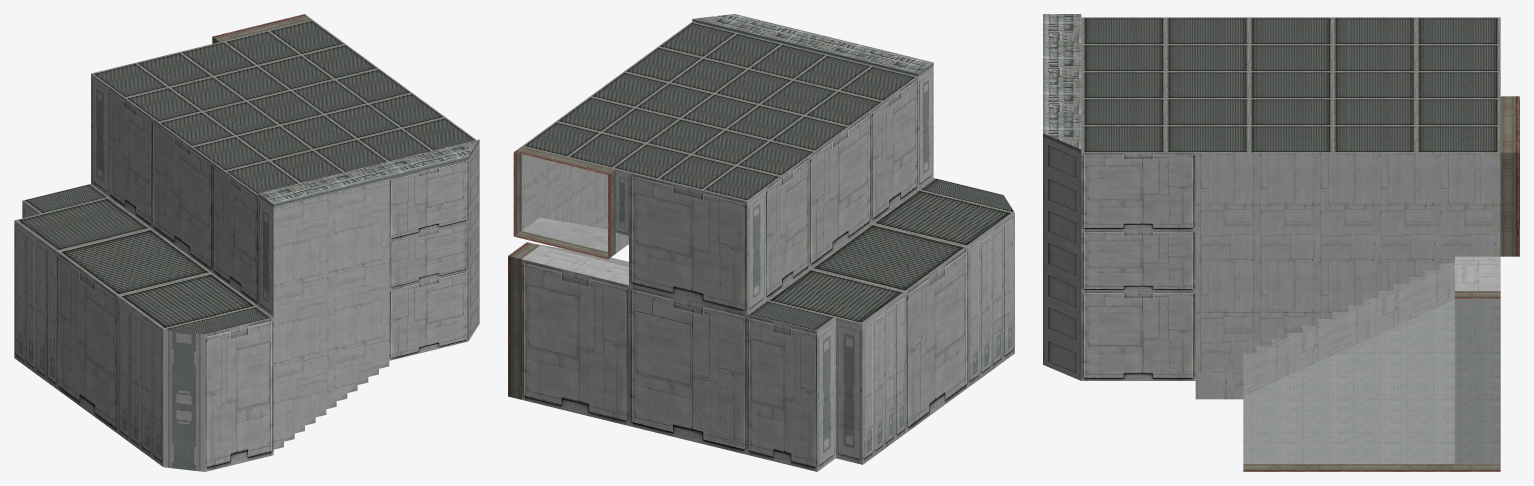
The model's file is mun_all_military_base_police_station_rebl_s01_r9_staircase_mesh_r9.fbx.
3 views of the same model, side by side, from view 1: azimuth 30°, elevation 25°; view 2: azimuth 150°, elevation 25°; view 3: azimuth 270°, elevation 25° (orthographic). The views are drawn at different scales.
Parts seen in each view (by area): view 1: mesh_node; view 2: mesh_node; view 3: mesh_node.
Boxes of the visible parts, x1,y1,x2,y2 form: mesh_node: [14, 14, 479, 471]; mesh_node: [508, 14, 1014, 471]; mesh_node: [1043, 14, 1519, 471].
Bounding box in the file's own units: 12.5 × 9.1 × 12.5.
